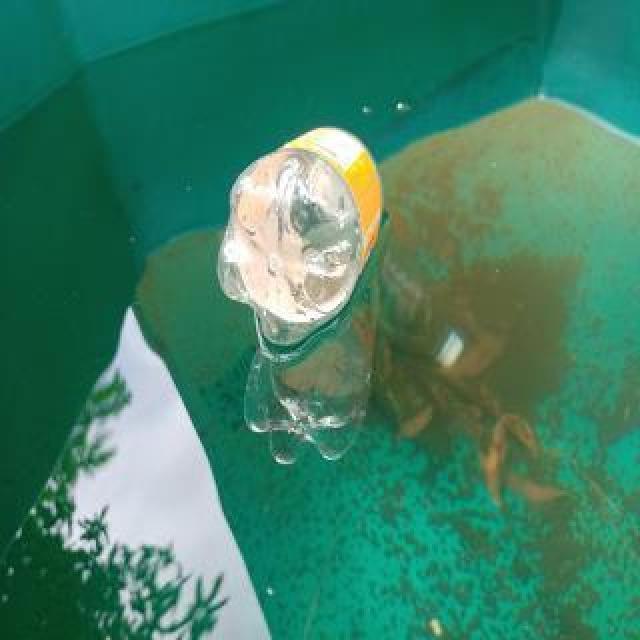bottle: (213, 122, 387, 350)
